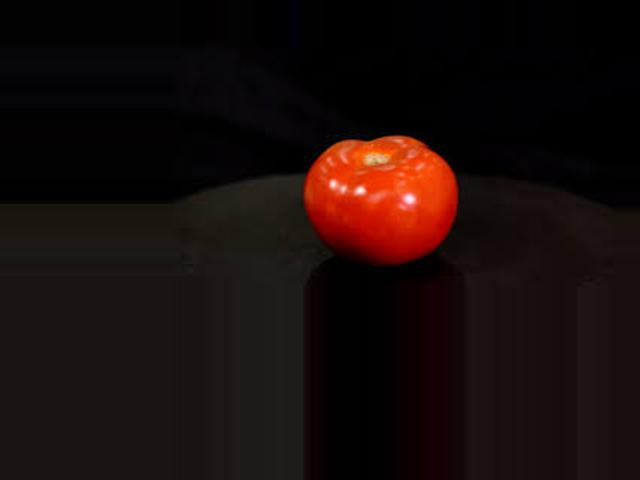tomato: (302, 134, 460, 266)
